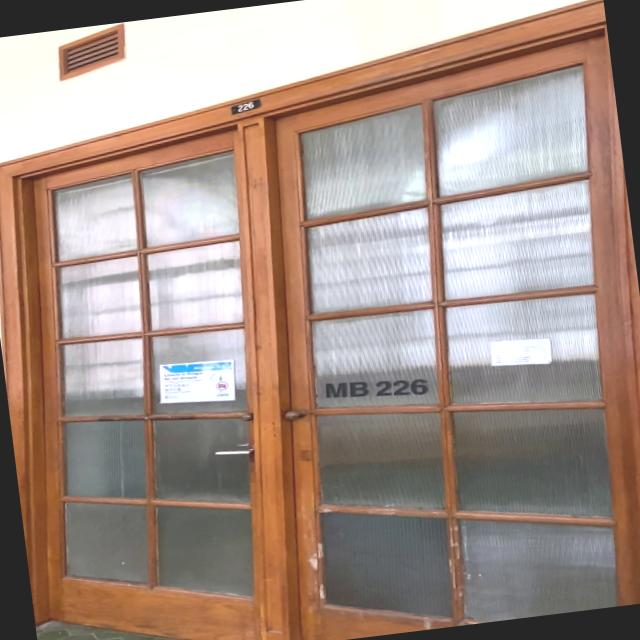room226: (228, 96, 264, 115)
room226Window: (318, 364, 439, 410)
